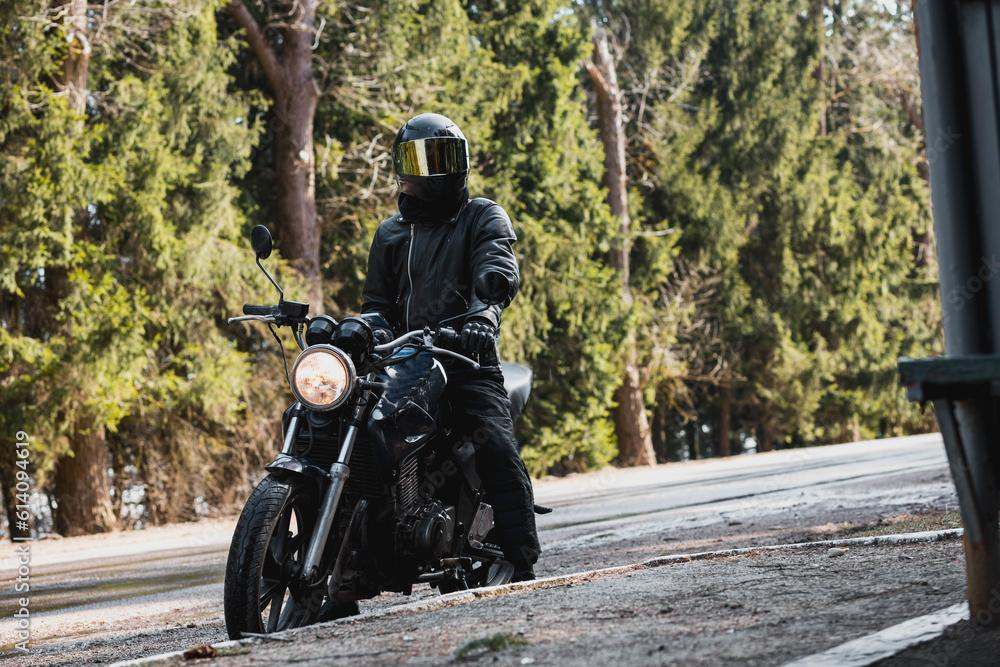helmet: (392, 112, 470, 205)
